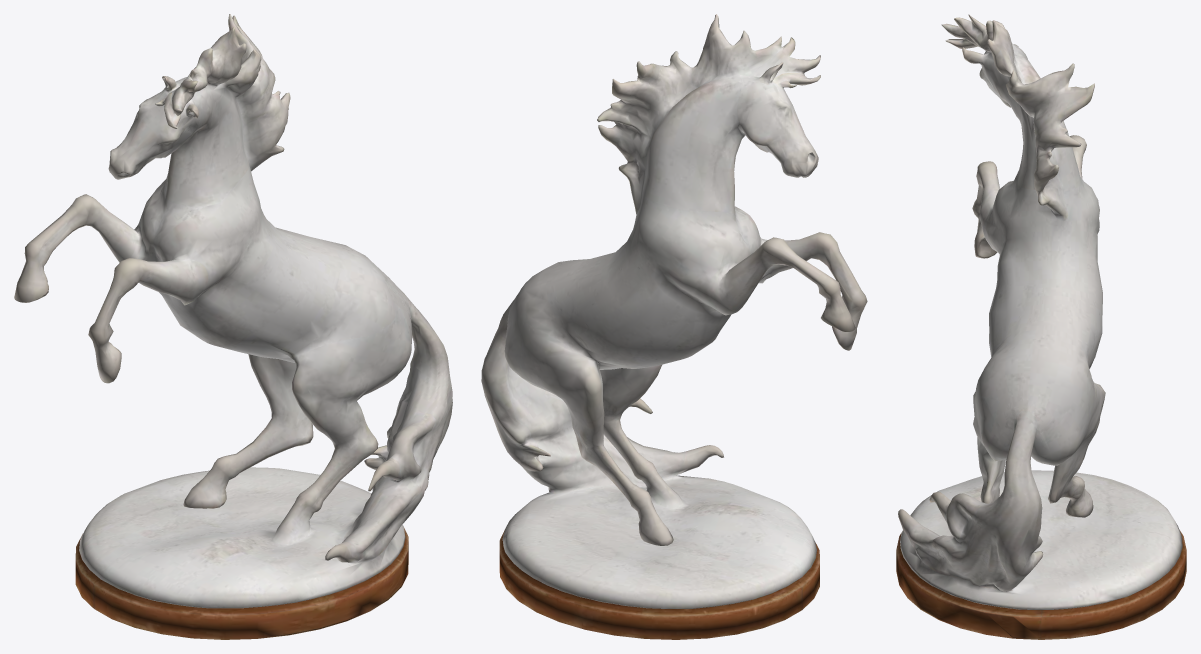
The model's file is horse_statue_01.glb.
3 renders of one model, left to right at view 1: azimuth 30°, elevation 25°; view 2: azimuth 150°, elevation 25°; view 3: azimuth 270°, elevation 25°, orthographic. The views are drawn at different scales.
Parts seen in each view (by area): view 1: horse_statue_01; view 2: horse_statue_01; view 3: horse_statue_01.
Boxes of the visible parts, box(x1,y1,x2,y2) form: horse_statue_01: box(14, 14, 452, 639); horse_statue_01: box(481, 14, 867, 639); horse_statue_01: box(896, 14, 1186, 639).
Size of the model in its own units: 0.1638 by 0.22 by 0.1078.
Materials: 1 (1 with a texture image).
